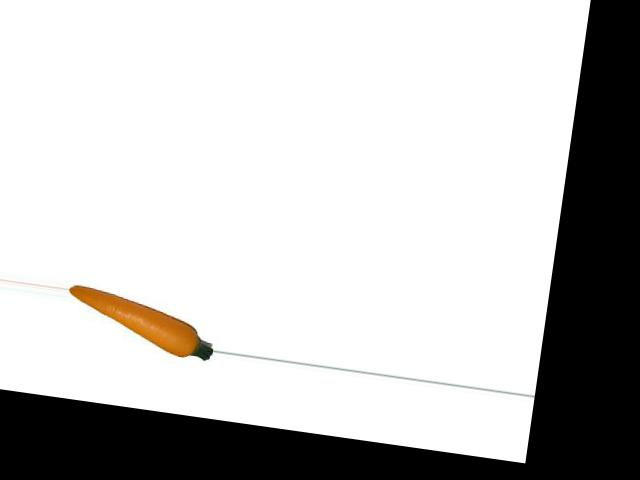carrot: (62, 281, 208, 361)
